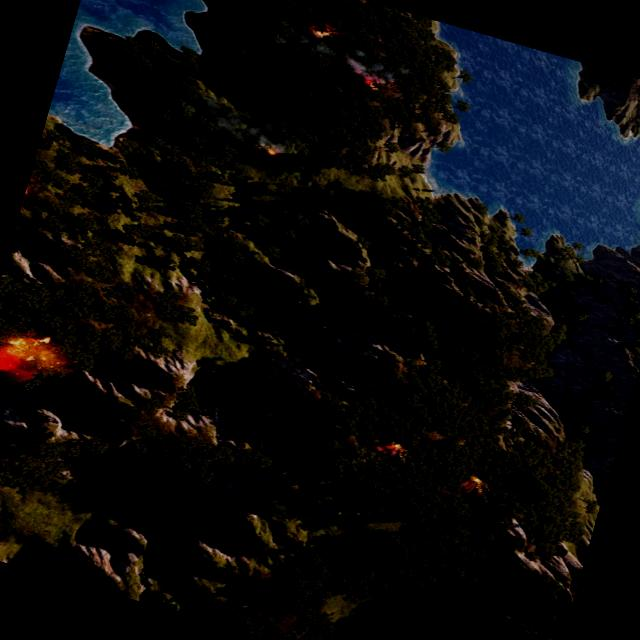fire: (0, 322, 56, 382), (308, 20, 339, 43), (376, 438, 406, 459), (359, 74, 383, 92)
smoke: (334, 48, 405, 94)
